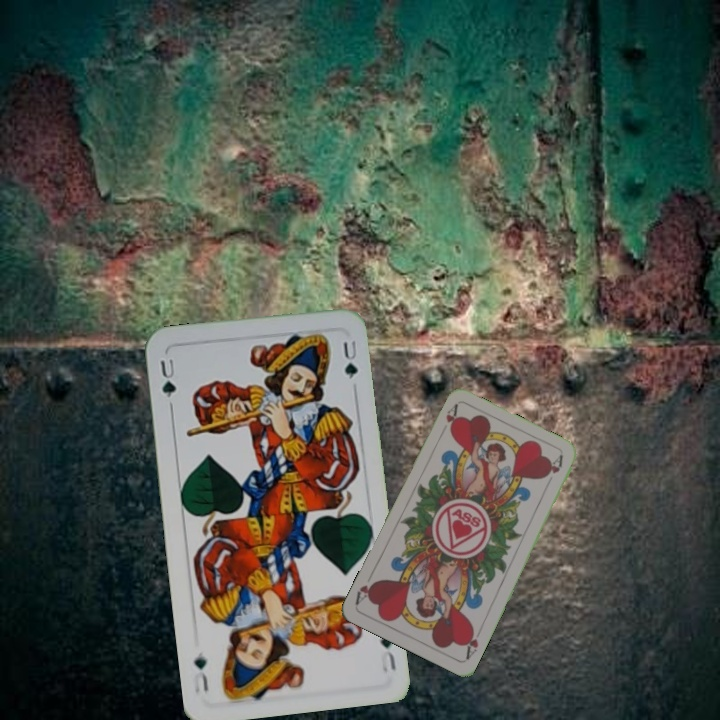GU: (156, 354, 179, 400), (376, 631, 398, 675)
HA: (436, 401, 460, 439), (461, 623, 481, 662)
